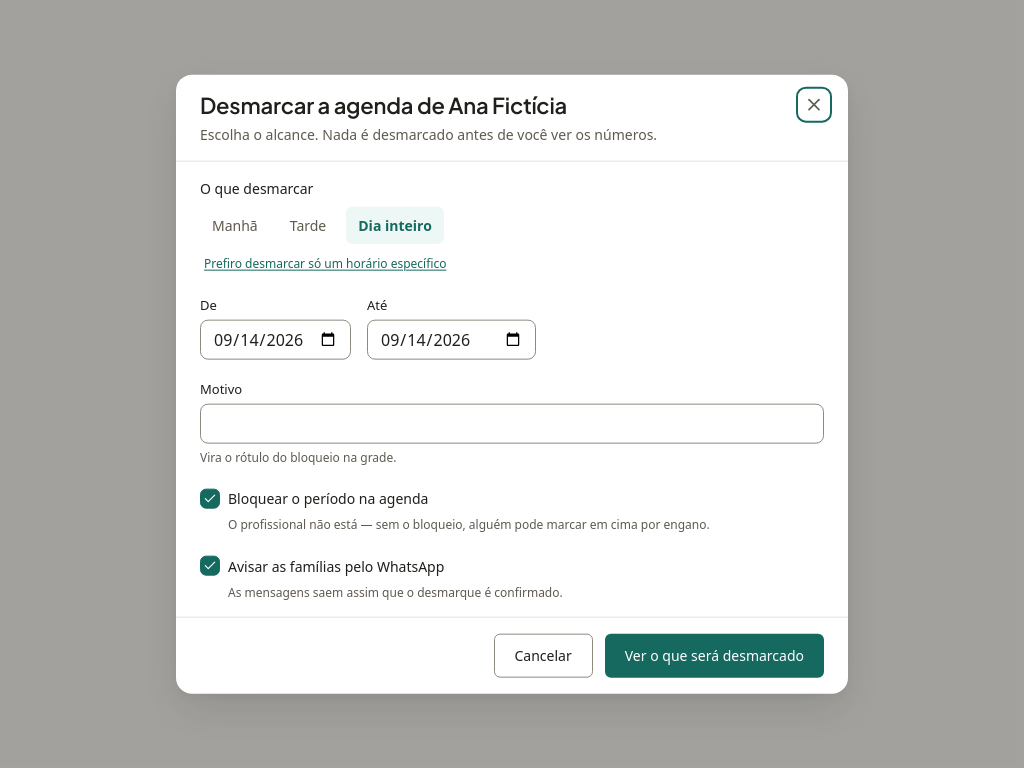
DesmarqueEmLote — a proteção é toda antes do clique › deve mostrar agendamentos, CRIANÇAS e mensagens depois da prévia
Click the button "Ver o que será desmarcado".
click(714, 655)  # box [605, 633, 824, 677]
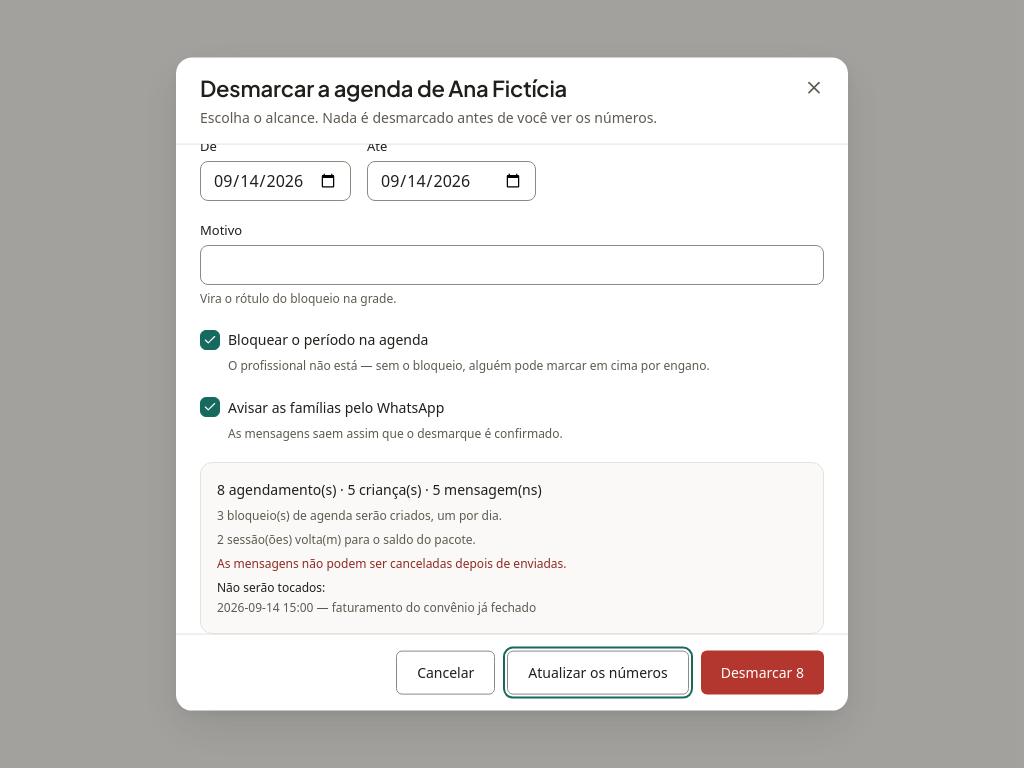
Check: the text "8 agendamento(s) · 5 criança(s) · 5 mensagem(ns)" is shown, box [217, 479, 542, 498]
Check: the text "2 sessão(ões) volta(m) para o saldo do pacote." is shown, box [217, 530, 476, 548]
